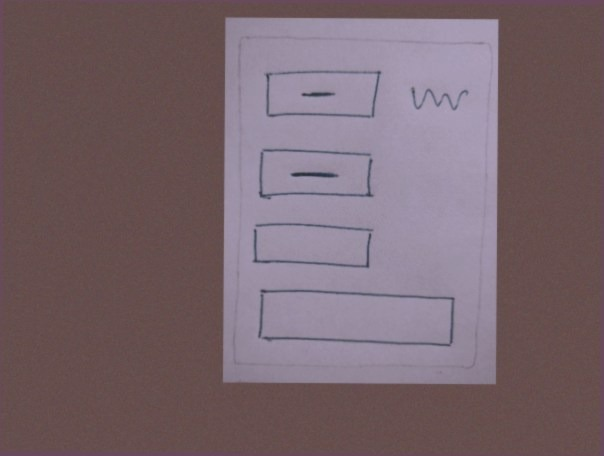button: (259, 63, 384, 125), (253, 144, 377, 206)
text: (404, 78, 471, 121)
text_input: (252, 285, 458, 352), (250, 217, 376, 278)
